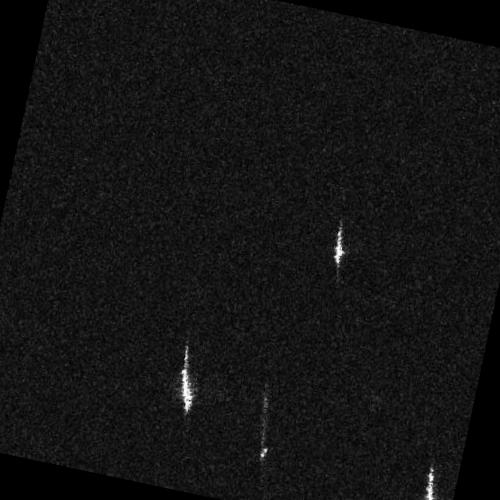ship: (179, 343, 193, 417), (333, 226, 347, 271), (260, 398, 268, 460), (425, 468, 437, 500)
